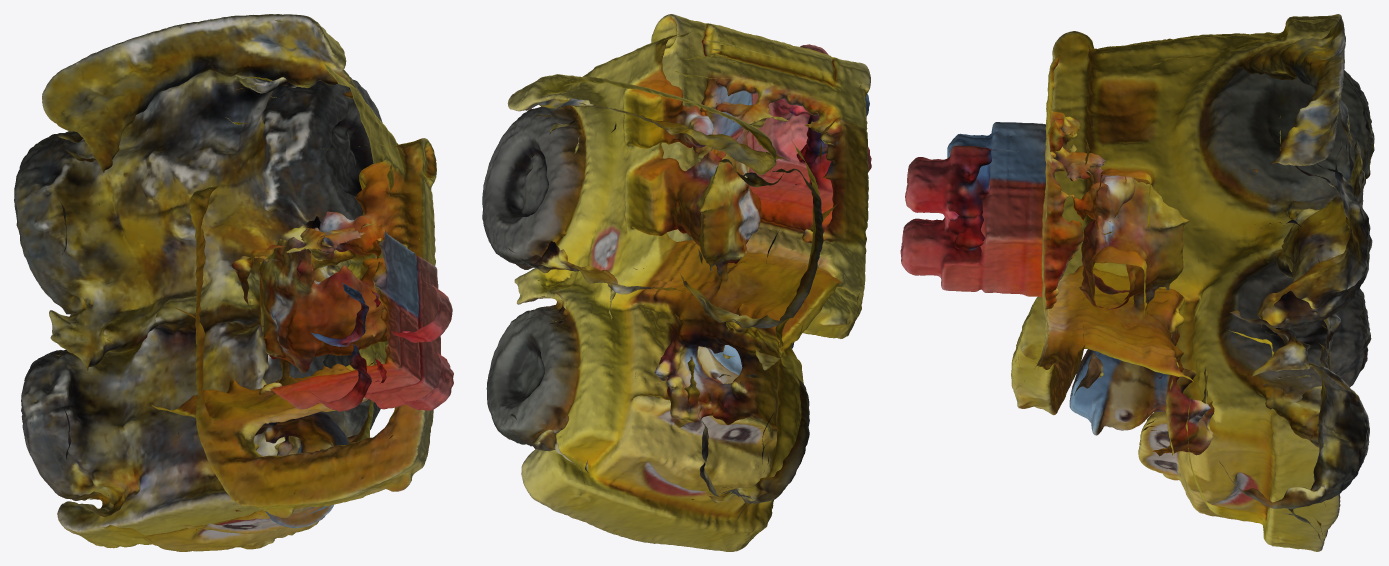
The model's file is school_bus2.glb.
The picture shows the model from 3 angles, left to right: view 1: azimuth 30°, elevation 25°; view 2: azimuth 150°, elevation 25°; view 3: azimuth 270°, elevation 25°; orthographic projection. The views are drawn at different scales.
Size of the model in its own units: 0.6795 by 1 by 0.9444.
